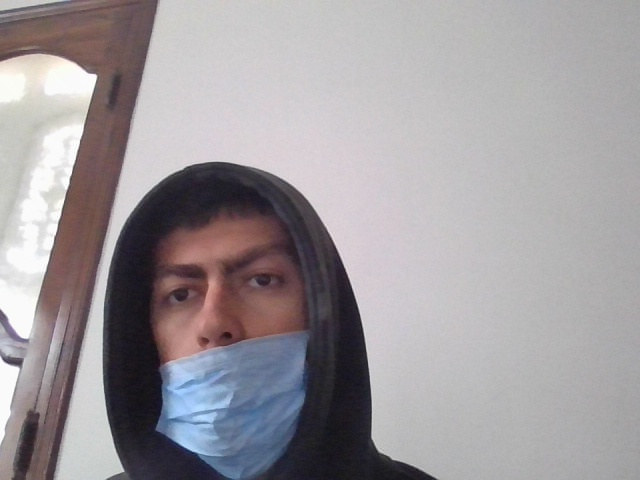mask_weared_incorrect: (142, 179, 328, 479)
